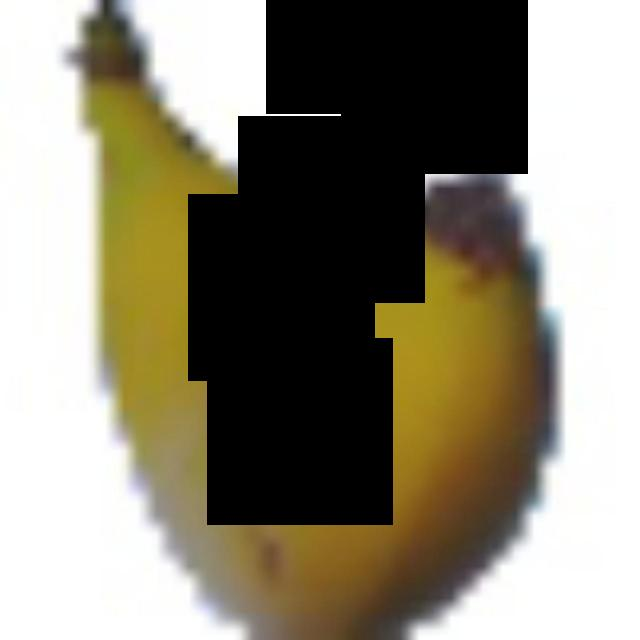banana: (59, 1, 567, 640)
